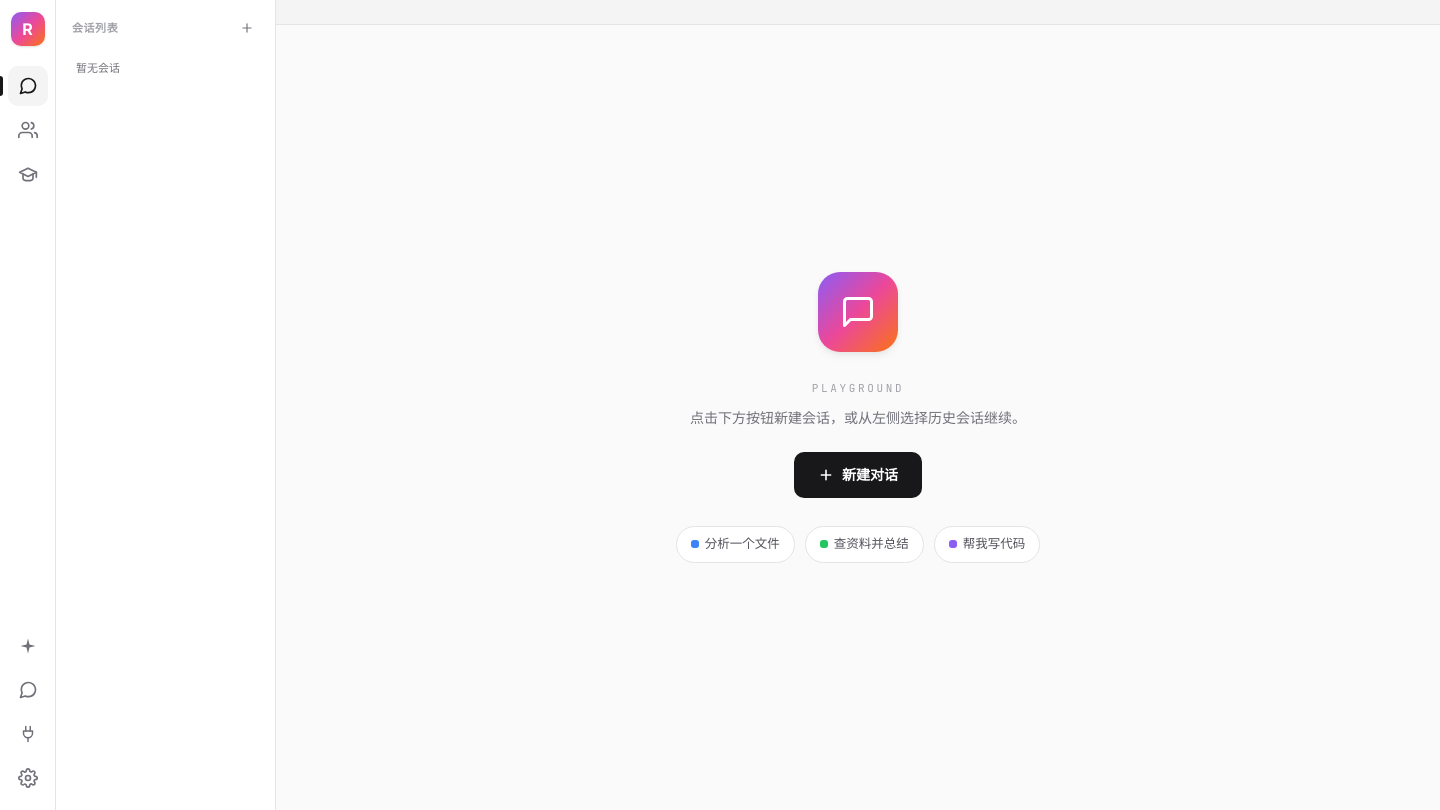
Test case: AppShell（[v0.0.47] nav 删齿轮子菜单 + 底部三独立入口；[v0.0.210] +Academy） › 点 Studio → 主区切到 page-studio（[v0.0.33.1] Studio view）
Click the button named "Studio" at (28, 130), box [8, 110, 48, 150]
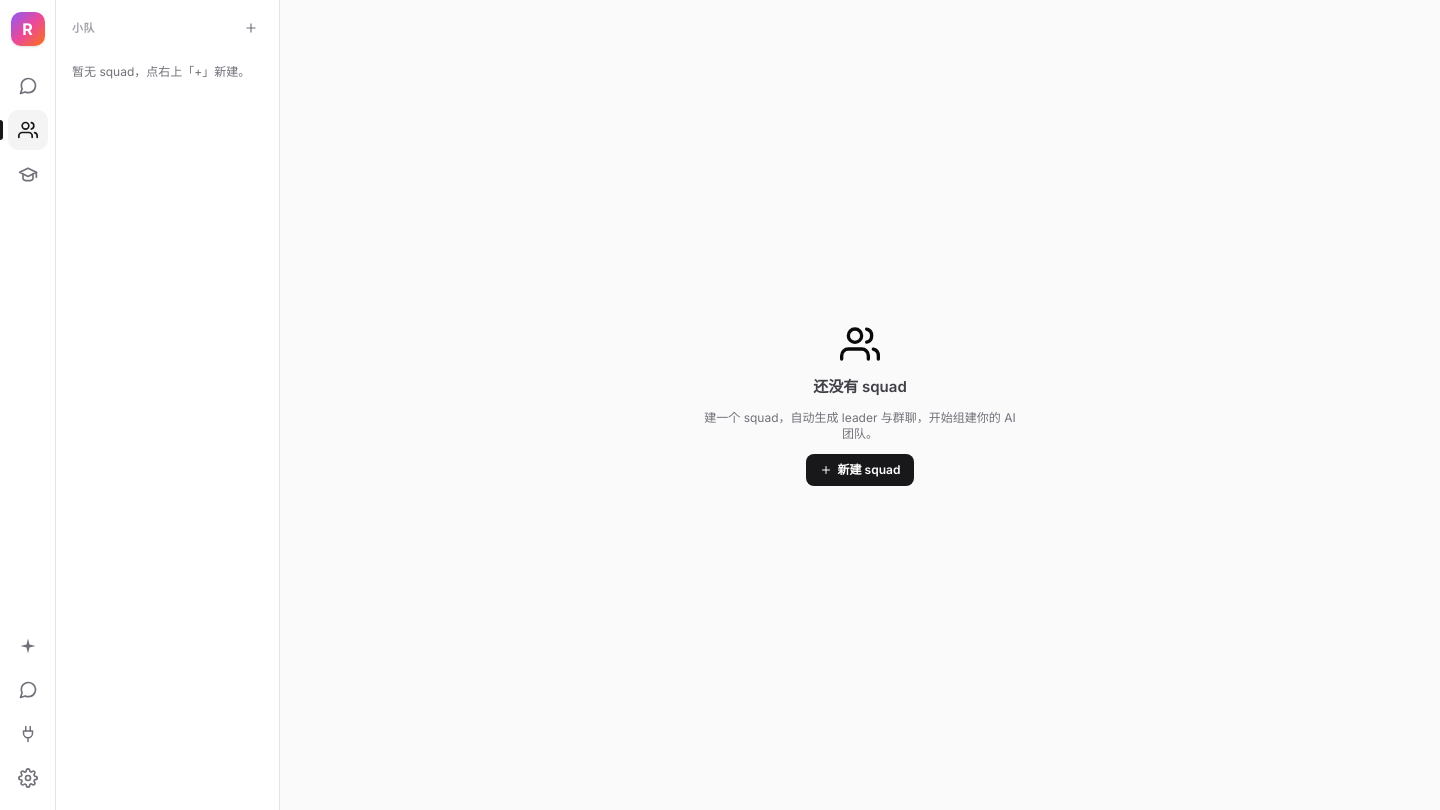
Result: the text "还没有 squad" is shown at [813, 376, 907, 398]
Result: the text "会话列表" is gone
